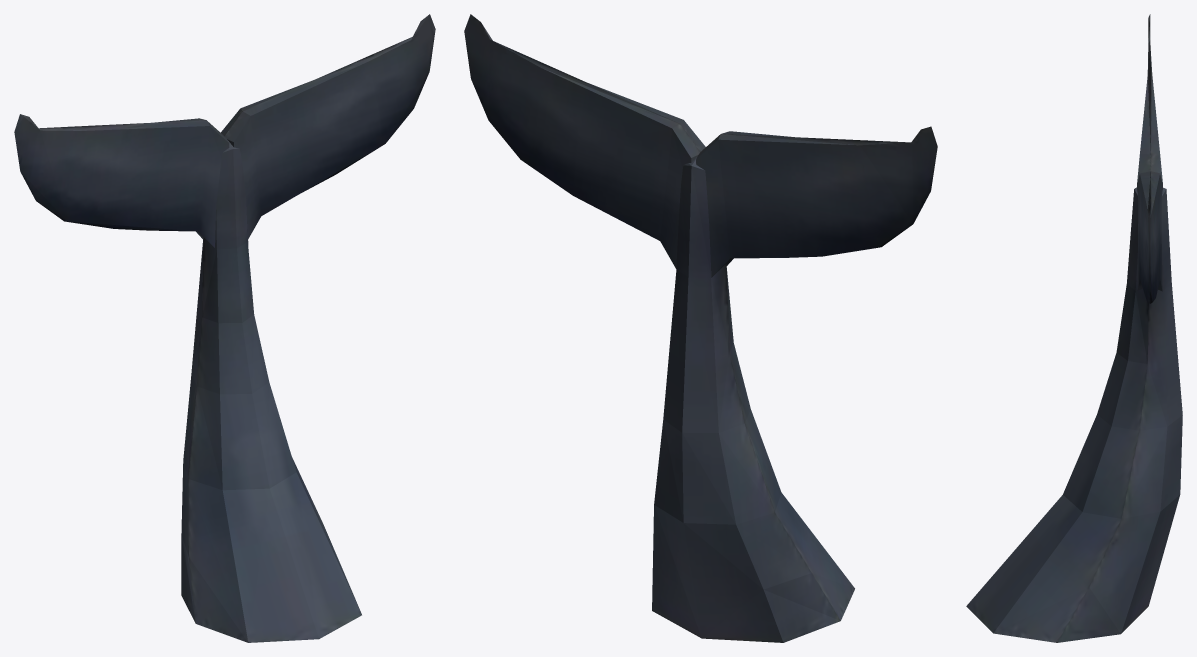
File: other-whale-tail-292.glb
The picture shows the model from 3 angles, left to right: view 1: azimuth 30°, elevation 25°; view 2: azimuth 150°, elevation 25°; view 3: azimuth 270°, elevation 25°; orthographic projection. The views are drawn at different scales.
Visible parts, largest first — view 1: Node; view 2: Node; view 3: Node.
Boxes of the visible parts, left/top/right/bottom form: Node: left=14, top=14, right=435, bottom=642; Node: left=464, top=14, right=937, bottom=642; Node: left=966, top=14, right=1182, bottom=642.
Bounding box in the file's own units: 12.52 × 14.38 × 5.71.
Materials: 1 (1 with a texture image).
